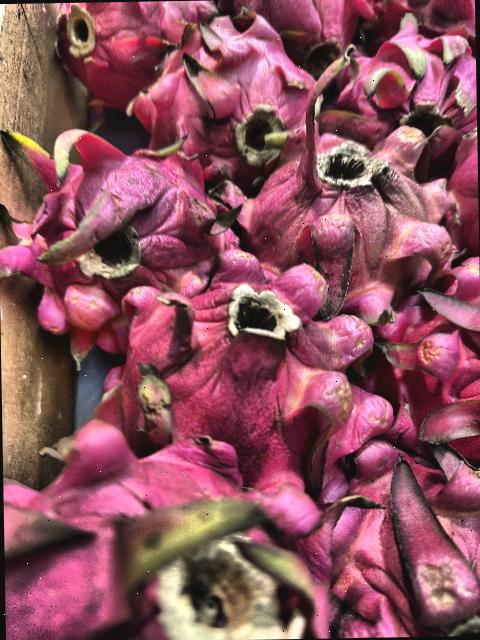buah-naga-belum-matang: (226, 70, 460, 312)
buah-naga-matang: (99, 252, 399, 518), (1, 407, 331, 640), (0, 113, 251, 325), (118, 11, 340, 168), (319, 14, 477, 176)
